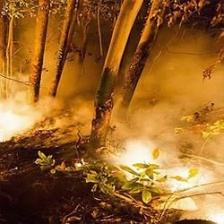fire: (103, 121, 224, 221), (1, 91, 50, 138)
